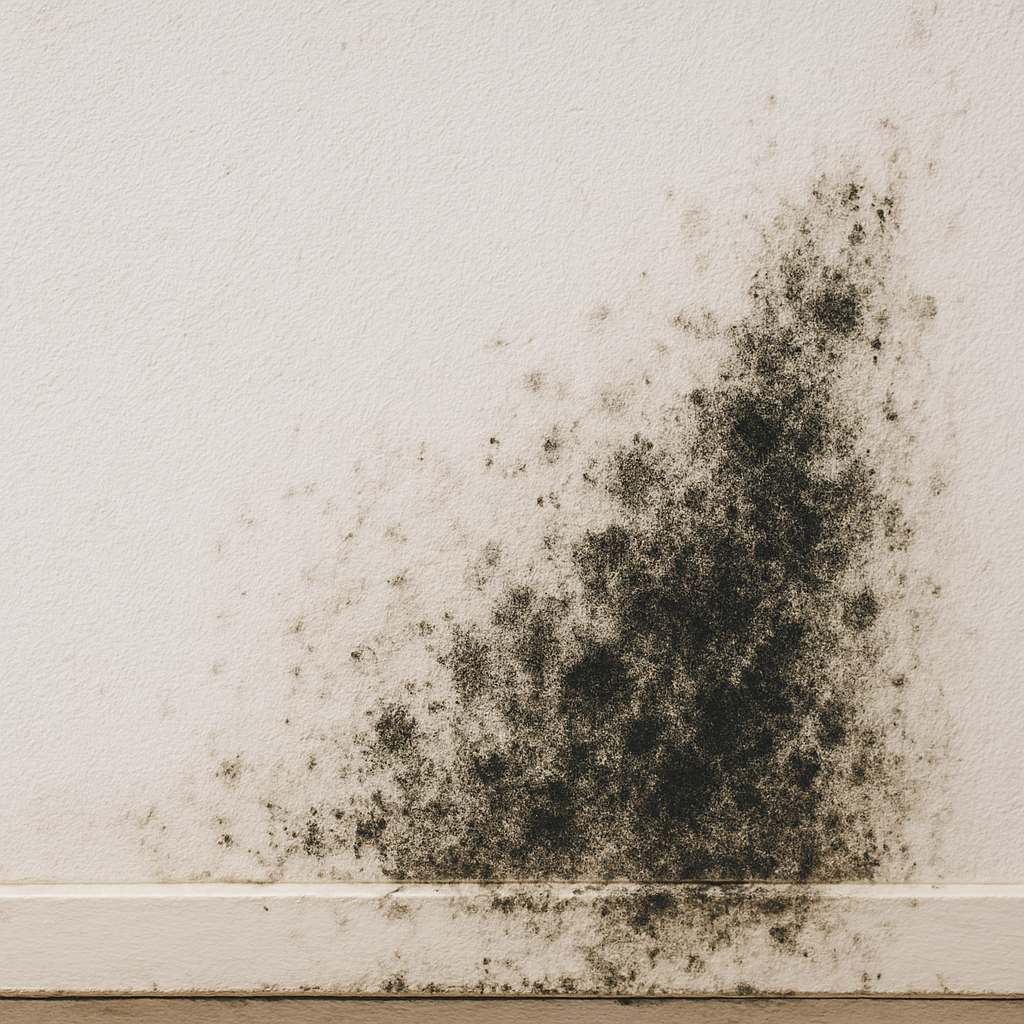schimmel: (684, 357, 831, 901), (428, 564, 577, 884), (591, 480, 677, 894), (612, 894, 813, 949), (774, 254, 902, 337)
